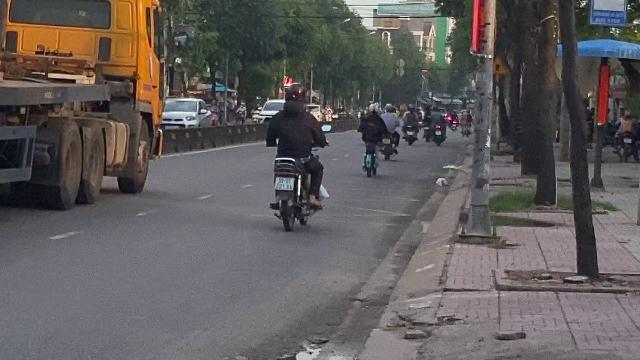helmet: (282, 82, 306, 109)
licenseplate: (274, 176, 294, 190)
motorcyclist: (264, 78, 330, 229)
